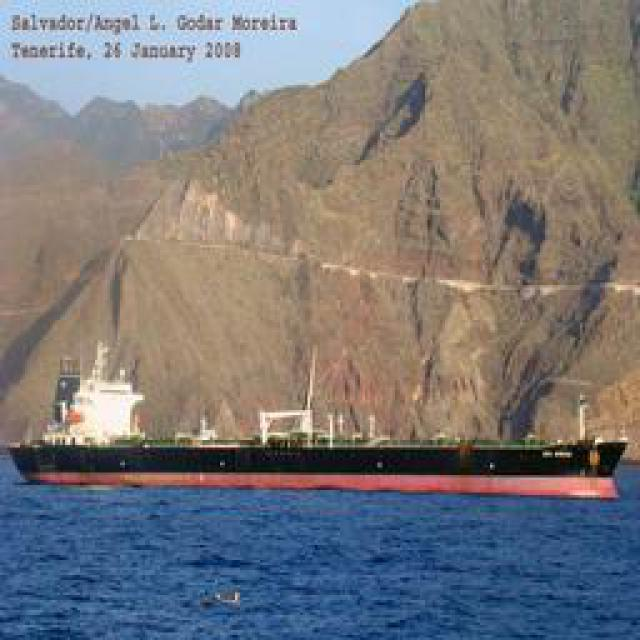Ship: (5, 432, 630, 490)
